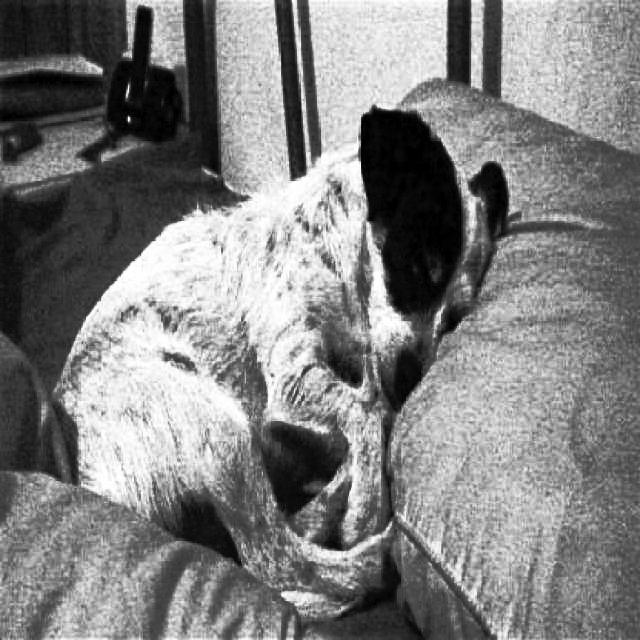Dog: (49, 101, 512, 640)
